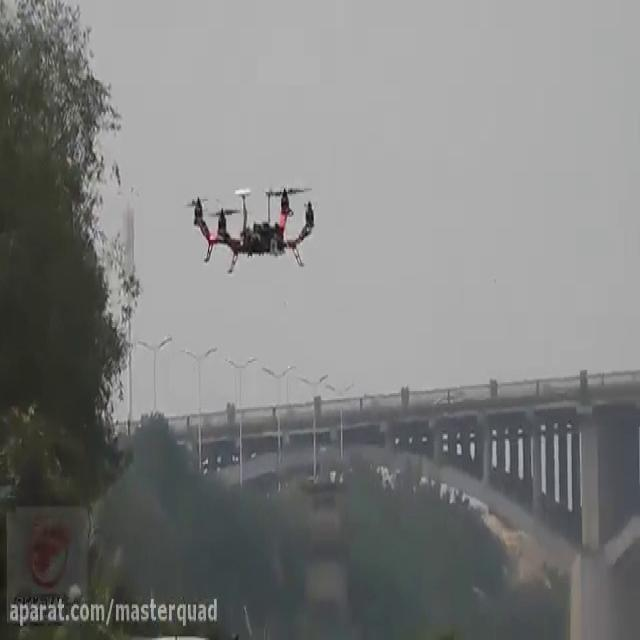drone: (182, 176, 320, 276)
